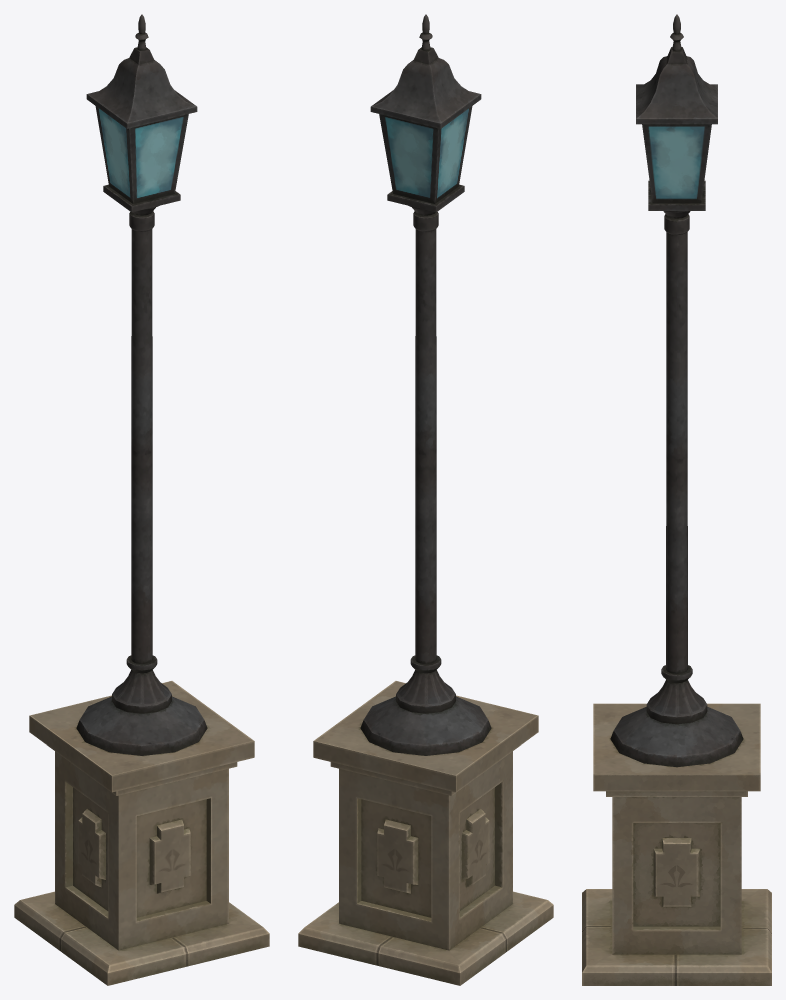
File: lampPedestal.fbx
3 views of the same model, side by side, from view 1: azimuth 30°, elevation 25°; view 2: azimuth 150°, elevation 25°; view 3: azimuth 270°, elevation 25° (orthographic).
Parts seen in each view (by area): view 1: lampPedestal; view 2: lampPedestal; view 3: lampPedestal.
Boxes of the visible parts, x1,y1,x2,y2 form: lampPedestal: (14,14,269,985); lampPedestal: (298,14,553,985); lampPedestal: (582,14,771,985).
Size of the model in its own units: 52.91 by 286 by 52.91.
